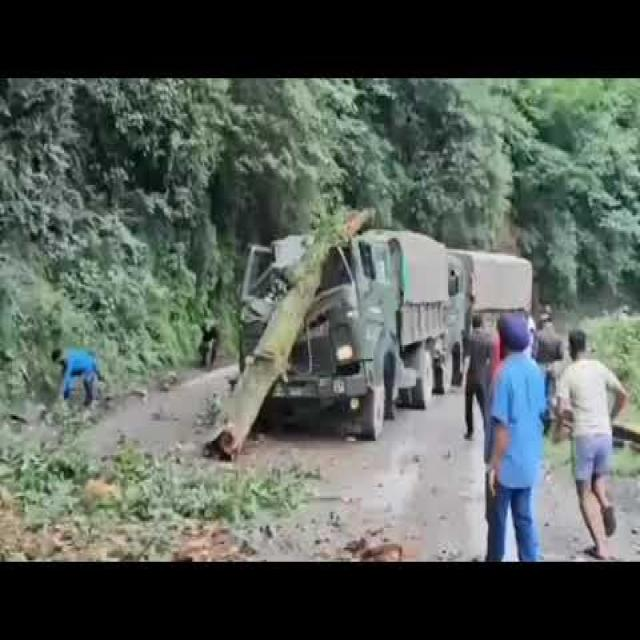accident: (272, 230, 448, 439)
